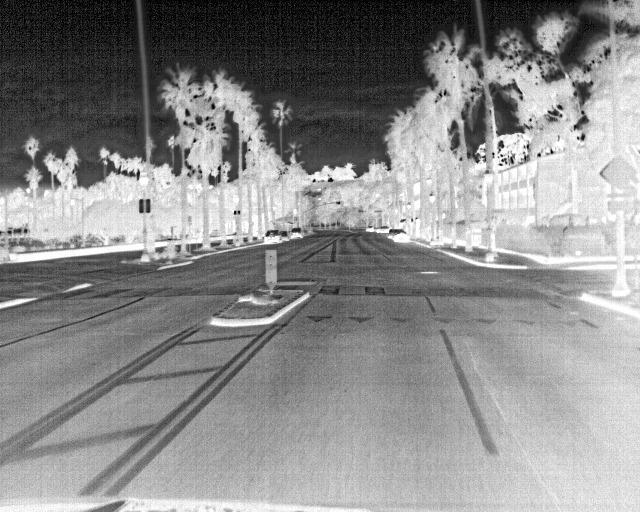car: (393, 229, 414, 244), (262, 228, 281, 244), (377, 224, 392, 236), (278, 229, 291, 242), (291, 226, 304, 239), (387, 229, 399, 241), (362, 224, 376, 233)
